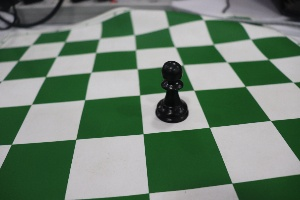black_pawn: (148, 50, 194, 127)
